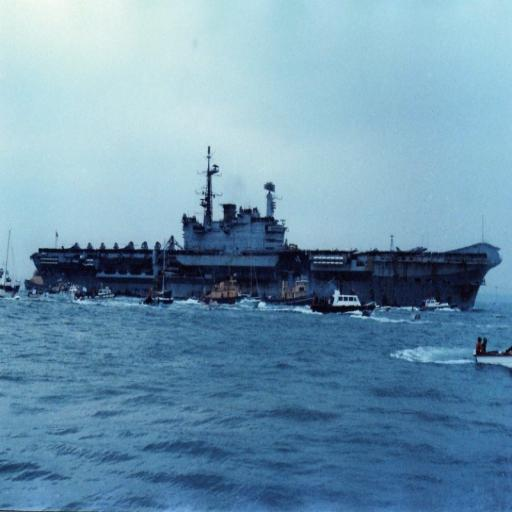Portanaves: (27, 145, 502, 324)
